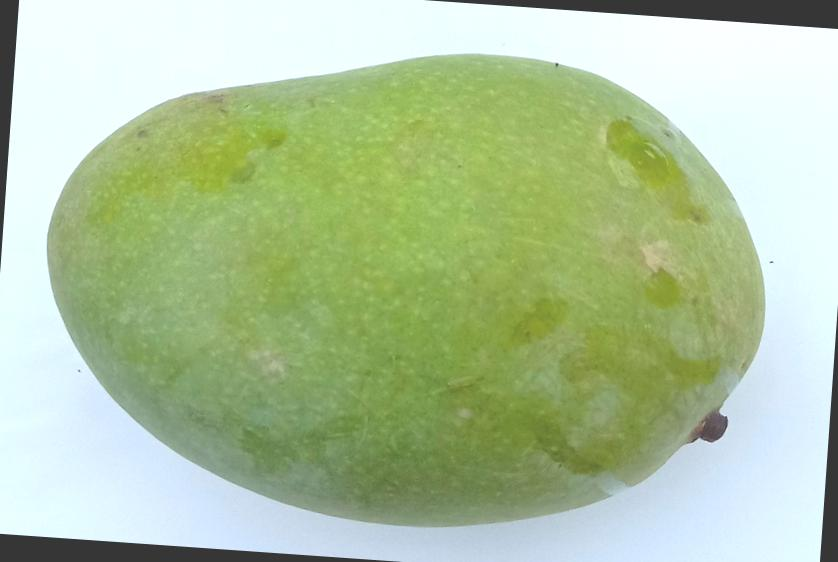Mango Unripe: (4, 6, 838, 550)
